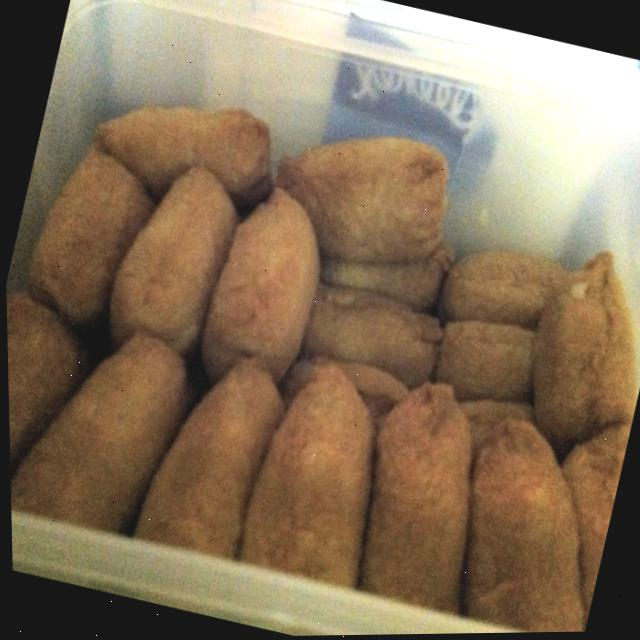寿司卷物: (1, 24, 640, 640)
